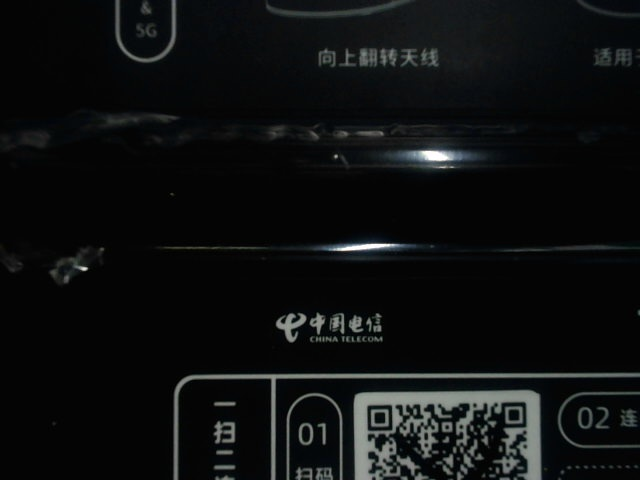AB_ChinaTelecom: (269, 309, 387, 346)
